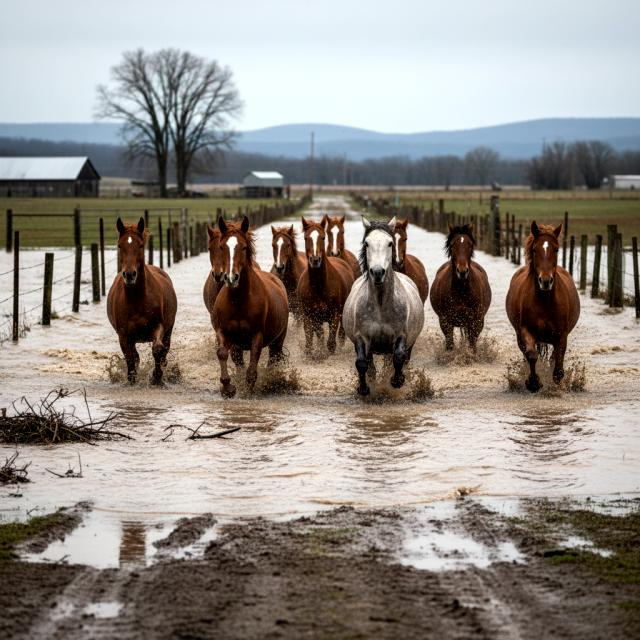horse: (209, 208, 291, 408), (343, 211, 428, 401), (502, 212, 586, 400), (101, 213, 187, 394), (293, 209, 355, 367), (431, 217, 495, 362), (386, 211, 431, 305), (195, 222, 238, 320), (263, 216, 308, 295), (319, 206, 364, 278)
